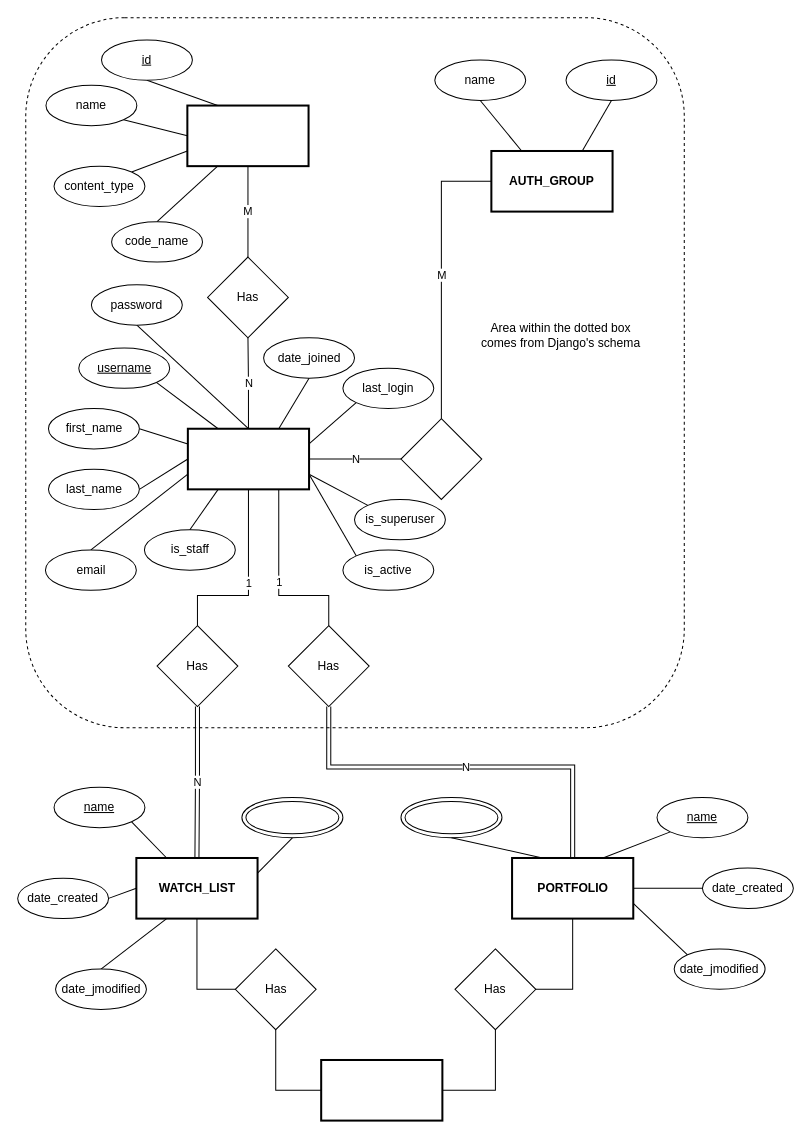
Image size: 811x1139. Some labels were removed from this diagram. Here are the shapes that lost their labels. From the top down, the box of each, then its label:
(186, 104, 309, 167): AUTH_PERMISSION
(186, 427, 310, 490): AUTH_USER
(400, 418, 482, 499): Belongs To
(241, 796, 343, 838): instruments
(400, 796, 502, 838): transactions
(320, 1058, 443, 1121): INSTRUMENT
